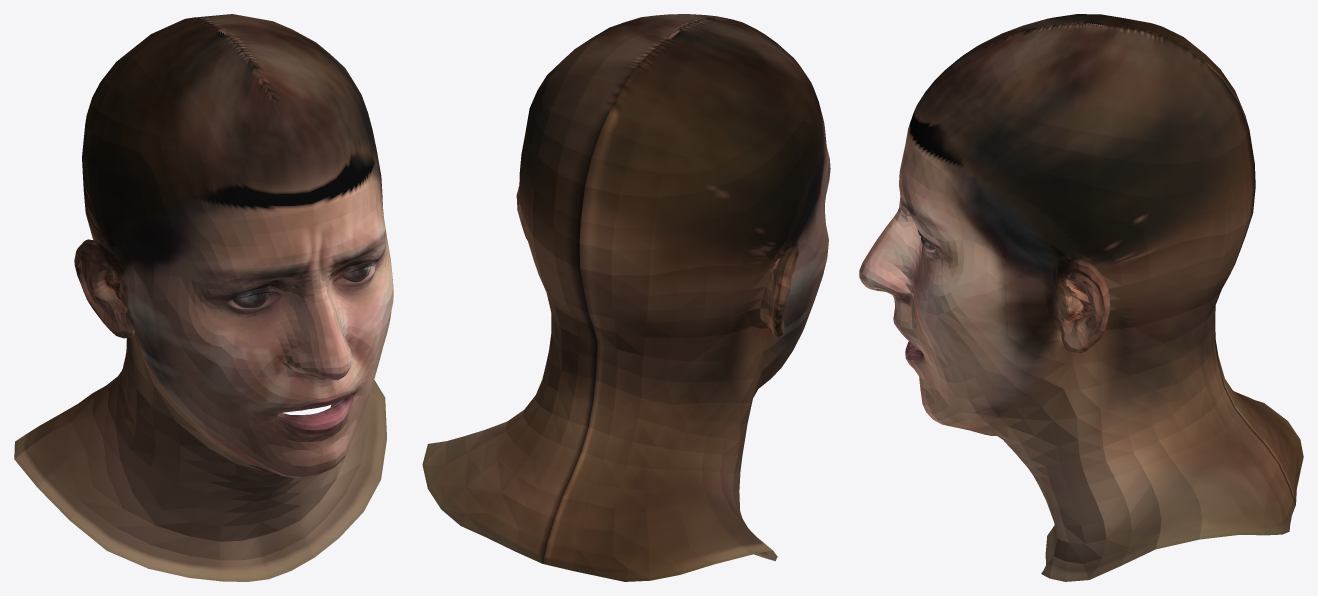
File: face_video_frame0124.obj
3 renders of one model, left to right at view 1: azimuth 30°, elevation 25°; view 2: azimuth 150°, elevation 25°; view 3: azimuth 270°, elevation 25°, orthographic.
Size of the model in its own units: 0.219 by 0.3291 by 0.249.
1 material, 1 textured.
